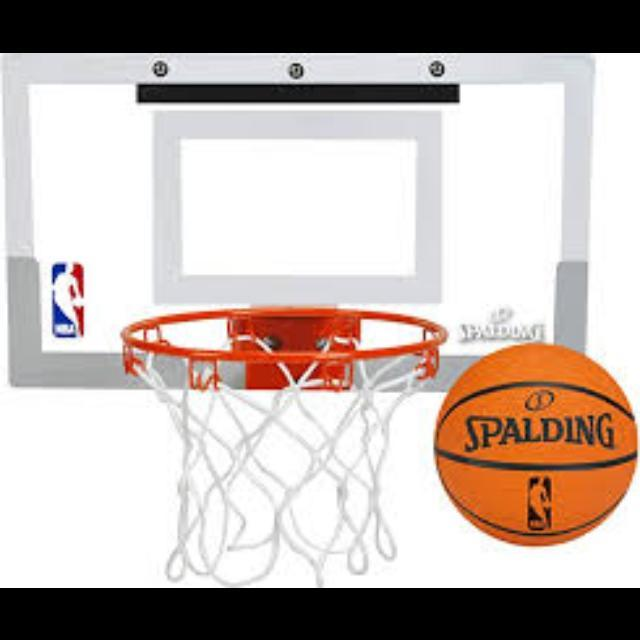basketball: (433, 342, 637, 544)
rim: (122, 307, 446, 581)
